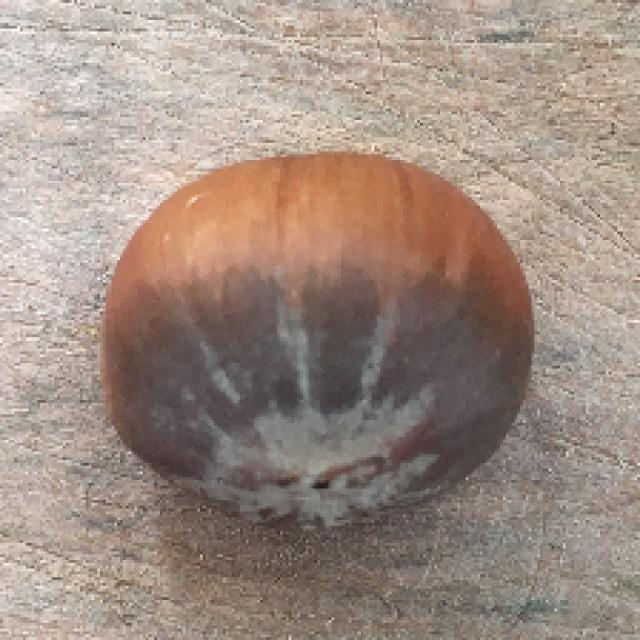damagedHazelnut: (96, 150, 532, 531)
